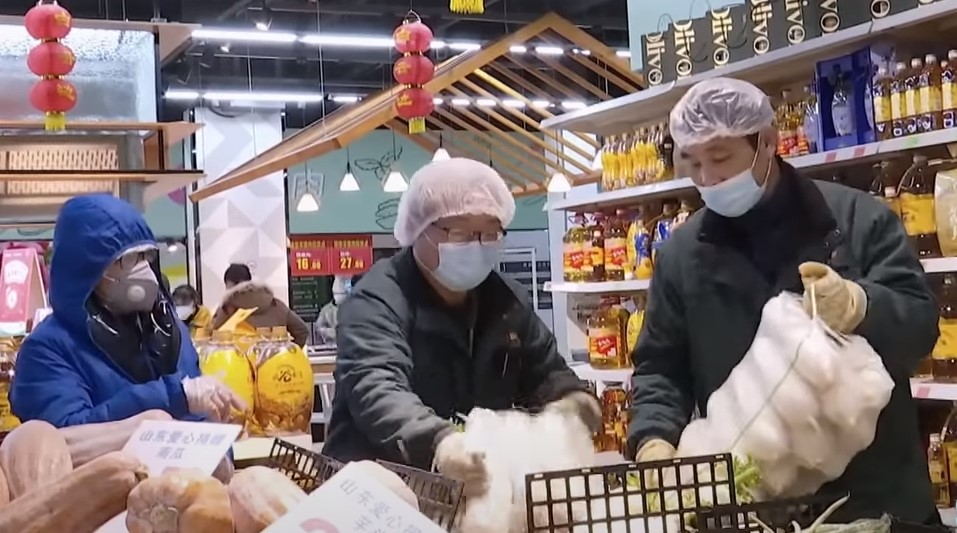face_with_mask: (399, 155, 513, 304), (670, 80, 783, 219), (50, 191, 167, 318)
